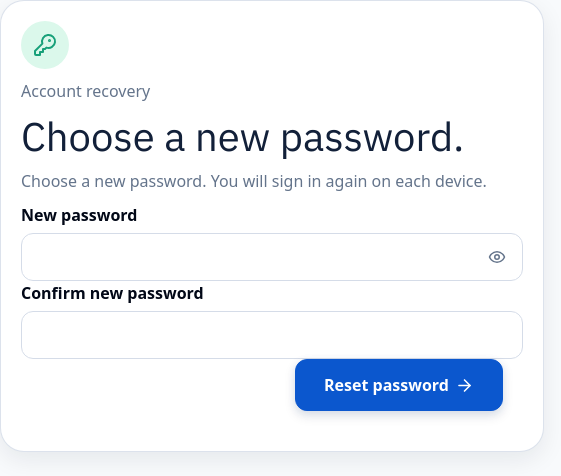
Test: candidate account experiences › requires matching passwords and removes a consumed reset token from the URL
The image size is (561, 476).
Type "new-candidate-password" into the password field labelled "New password". click: (272, 257)
box: [21,233,523,281]
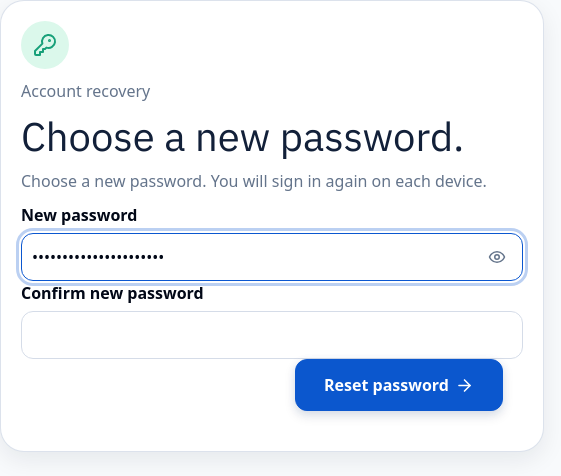
Type "new-candidate-password" into the password field labelled "Confirm new password". click: (272, 335)
box: [21,311,523,359]
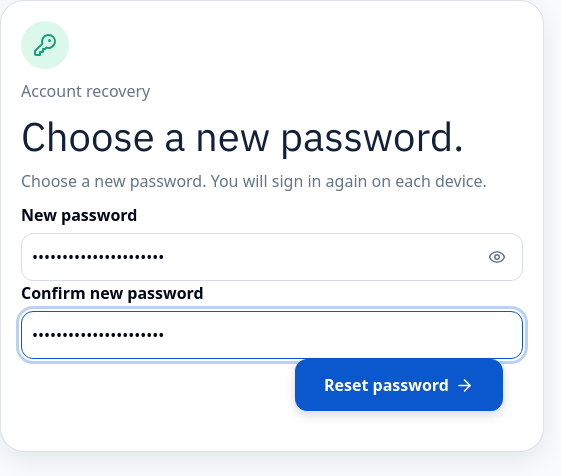
Click the button "Reset password". click: (399, 385)
box: [295,359,503,411]
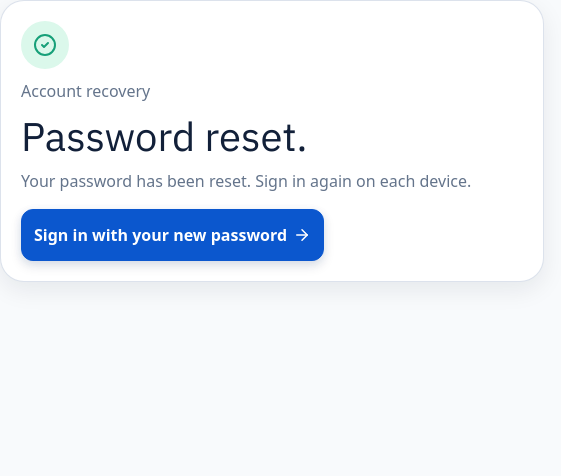
Result: the heading "Password reset." is shown at [21,110,307,162]
